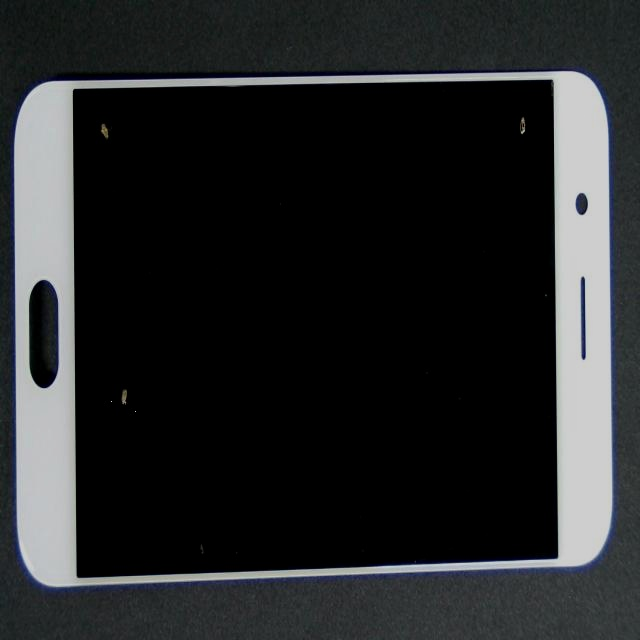stain: (241, 44, 640, 205), (53, 214, 162, 640), (44, 74, 133, 222)
